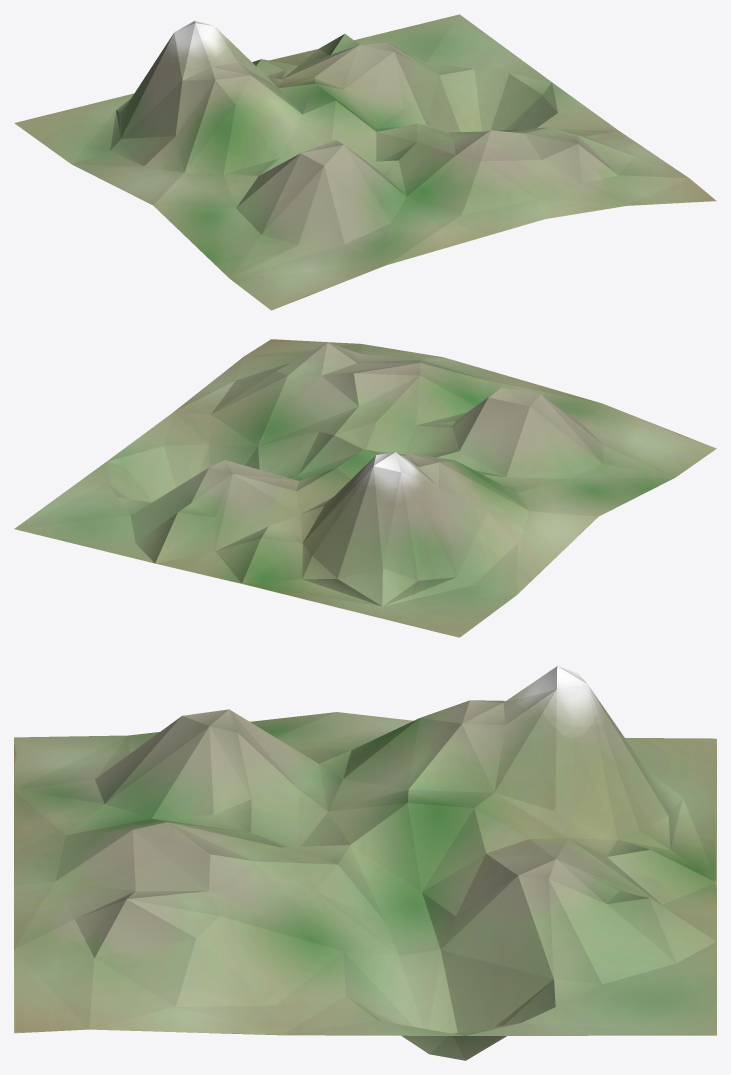
File: trimeshTest.glb
The picture shows the model from 3 angles, top to bottom: view 1: azimuth 30°, elevation 25°; view 2: azimuth 150°, elevation 25°; view 3: azimuth 270°, elevation 25°; orthographic projection. The views are drawn at different scales.
Visible parts, largest first — view 1: Plane; view 2: Plane; view 3: Plane.
Boxes of the visible parts, x1=… form: Plane: x1=14, y1=14, x2=716, y2=310; Plane: x1=14, y1=339, x2=716, y2=637; Plane: x1=14, y1=666, x2=716, y2=1060.
Bounding box in the file's own units: 40.01 × 14.28 × 40.01.
1 material, 1 textured.
